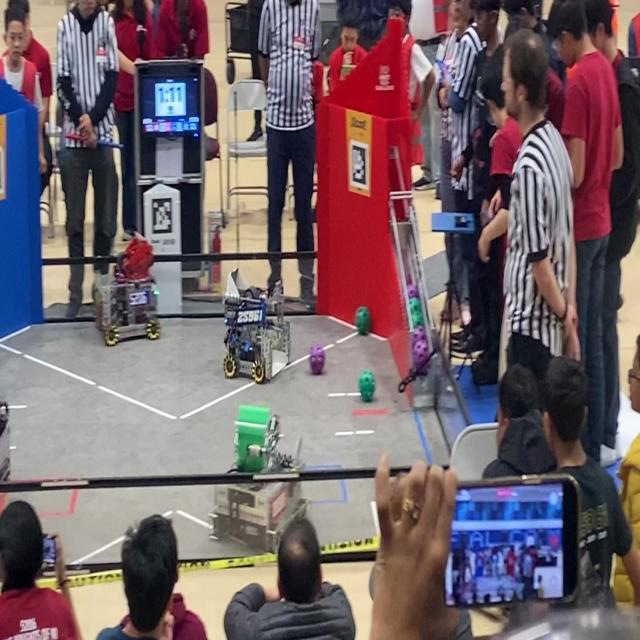artifact_green: (359, 370, 375, 402), (355, 307, 370, 334), (411, 309, 424, 327), (409, 299, 421, 314)
artifact_purple: (413, 340, 429, 370), (310, 344, 325, 375), (413, 326, 426, 344), (407, 284, 419, 299)
